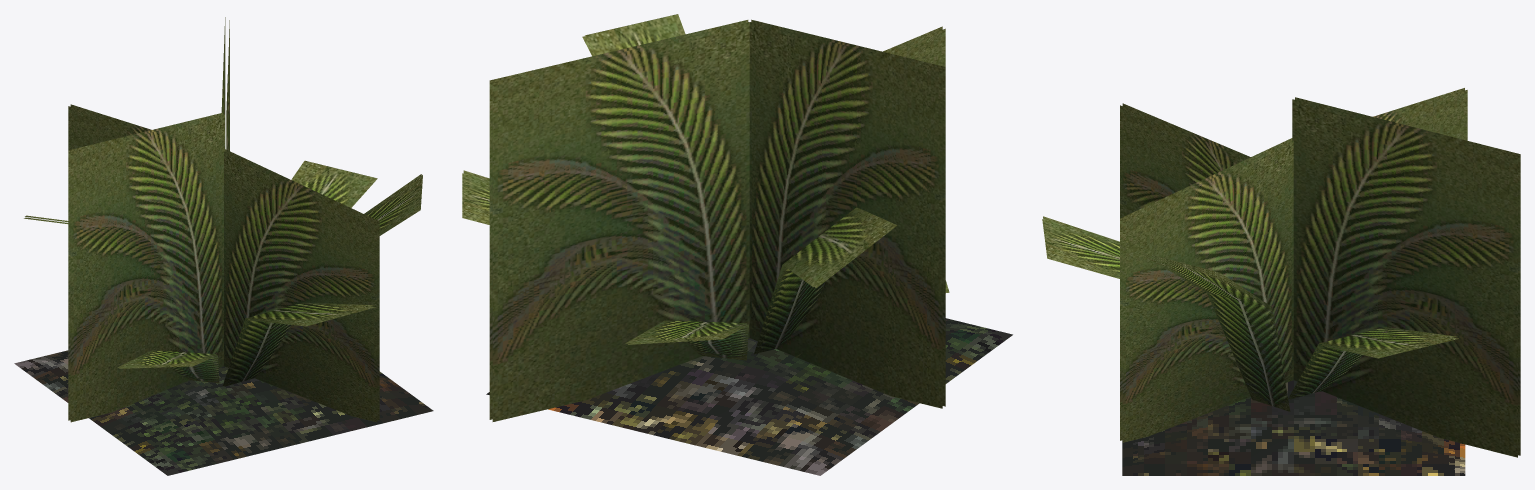
Rendered from frst_fern_brown_jumbo1_l1.fbx.
3 views of the same model, side by side, from view 1: azimuth 30°, elevation 25°; view 2: azimuth 150°, elevation 25°; view 3: azimuth 270°, elevation 25° (orthographic). The views are drawn at different scales.
Visible parts, largest first — view 1: mesh_node; view 2: mesh_node; view 3: mesh_node.
Boxes of the visible parts, <box> form: mesh_node: <box>14,17,433,475</box>; mesh_node: <box>462,14,1012,475</box>; mesh_node: <box>1042,88,1520,475</box>.
Size of the model in its own units: 2.92 by 2.19 by 3.11.
